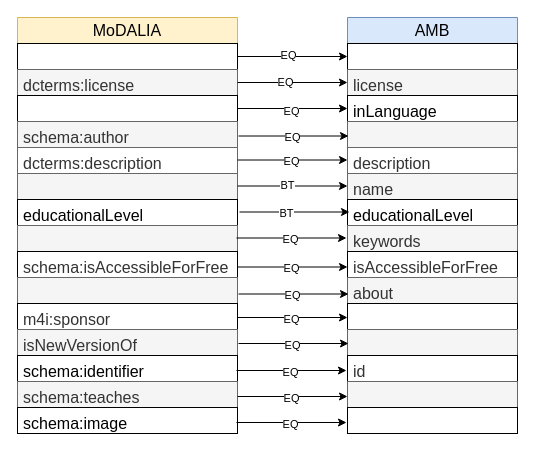
Some shapes in this 535 by 454 pixel diagram are drawn without their labels. The box of each missing label's shape, as (x1, y1, x2, y2) in pixels:
creator: (346, 120, 518, 148)
dcterms:language: (16, 94, 238, 122)
dcterms:title: (16, 172, 238, 200)
ec:EducationalResource: (16, 42, 238, 70)
fabio:hasDiscipline: (16, 276, 238, 304)
funder: (346, 302, 518, 330)
image: (346, 406, 518, 434)
isBasedOn: (346, 328, 518, 356)
LearningResource: (346, 42, 518, 70)
schema:keywords: (16, 224, 238, 252)
teaches: (346, 380, 518, 408)
